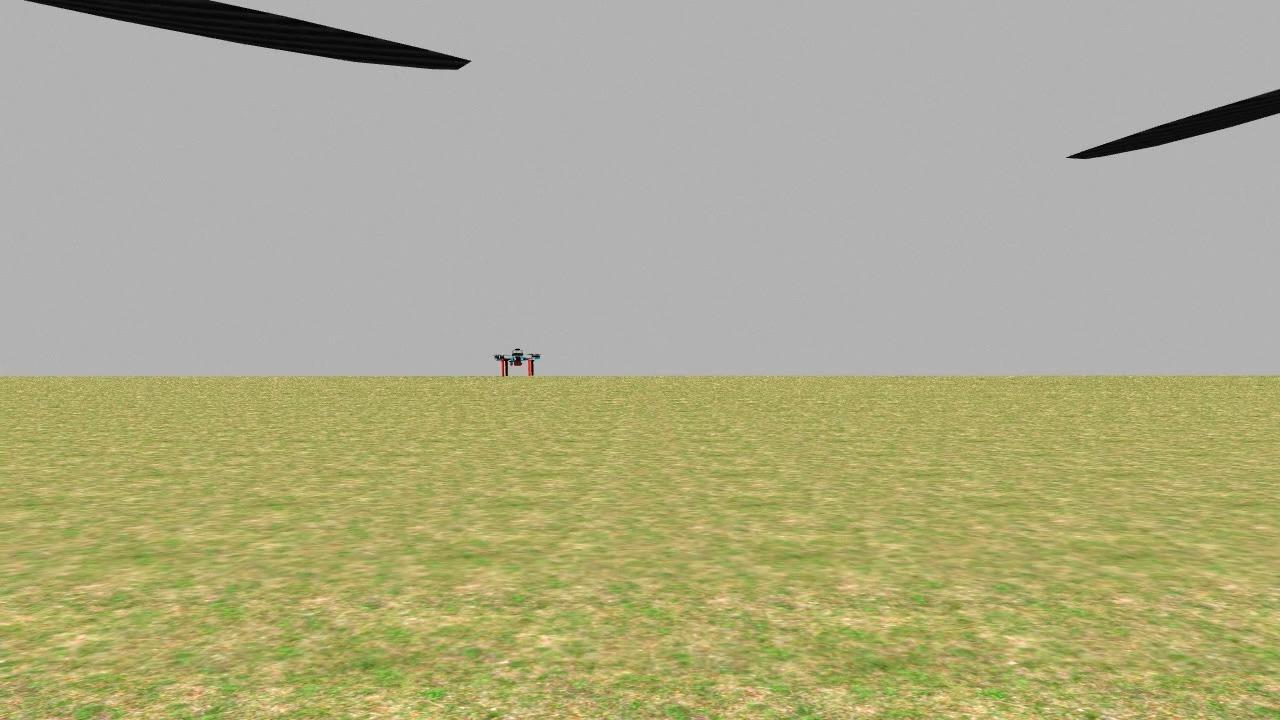UAV: (481, 336, 557, 382)
